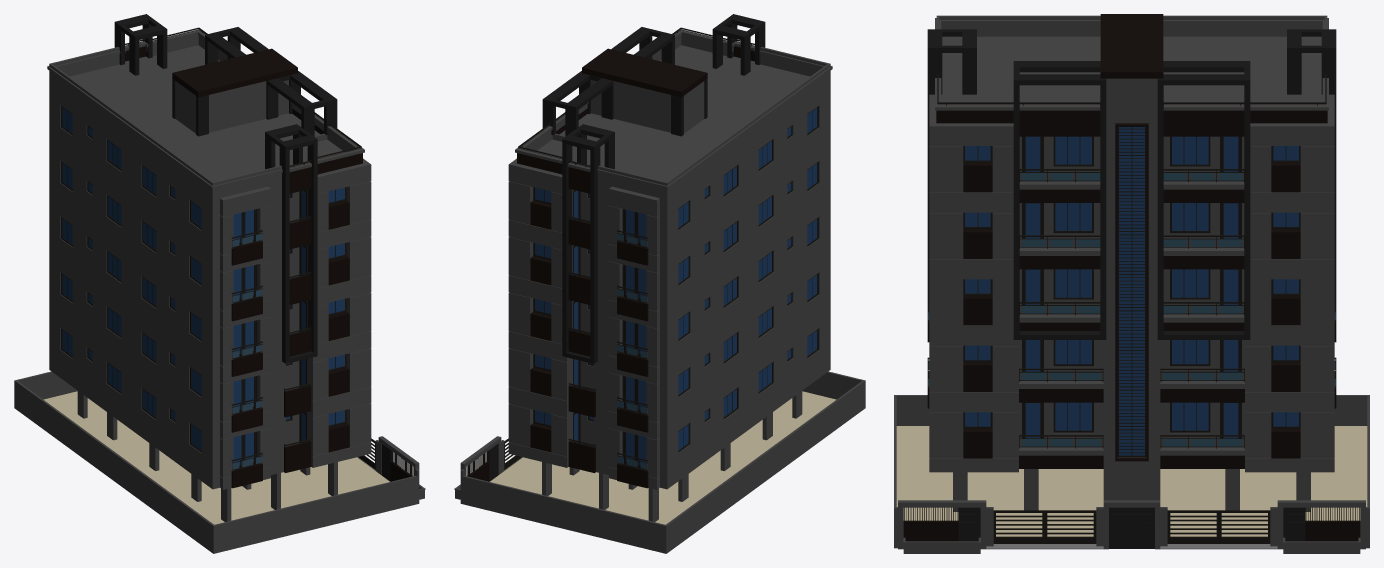
Rendered from indian appartment builiding 1 fbx.FBX.
3 views of the same model, side by side, from view 1: azimuth 30°, elevation 25°; view 2: azimuth 150°, elevation 25°; view 3: azimuth 270°, elevation 25° (orthographic). The views are drawn at different scales.
Parts seen in each view (by area): view 1: white walls, brown walls, wall x1, grey massing, floor, winows 01, doors, Railings, compound wall 001; view 2: white walls, brown walls, wall x1, grey massing, floor, winows 01, doors, Railings, compound wall 002; view 3: white walls, brown walls, floor, grey massing, winows 01, Railings, windows 02, doors, compound wall 001, compound wall 002, compound wall 02, wall x1 (+7 smaller).
Part boxes in pixels (x1=…): white walls: x1=47, y1=29, x2=371, y2=521; brown walls: x1=125, y1=46, x2=362, y2=488; wall x1: x1=14, y1=371, x2=417, y2=553; grey massing: x1=114, y1=14, x2=337, y2=363; floor: x1=43, y1=391, x2=389, y2=524; winows 01: x1=61, y1=106, x2=346, y2=452; doors: x1=233, y1=190, x2=306, y2=469; Railings: x1=125, y1=27, x2=361, y2=470; compound wall 001: x1=378, y1=436, x2=425, y2=499; white walls: x1=508, y1=29, x2=832, y2=521; brown walls: x1=517, y1=46, x2=754, y2=488; wall x1: x1=462, y1=371, x2=865, y2=553; grey massing: x1=542, y1=14, x2=765, y2=363; floor: x1=490, y1=391, x2=836, y2=524; winows 01: x1=533, y1=106, x2=818, y2=452; doors: x1=573, y1=190, x2=646, y2=469; Railings: x1=518, y1=27, x2=754, y2=470; compound wall 002: x1=454, y1=436, x2=501, y2=499; white walls: x1=929, y1=15, x2=1334, y2=511; brown walls: x1=927, y1=14, x2=1336, y2=468; floor: x1=896, y1=426, x2=1367, y2=536; grey massing: x1=927, y1=29, x2=1336, y2=339; winows 01: x1=963, y1=136, x2=1300, y2=432; Railings: x1=927, y1=74, x2=1336, y2=448; windows 02: x1=1117, y1=127, x2=1146, y2=457; doors: x1=1022, y1=136, x2=1241, y2=438; compound wall 001: x1=898, y1=500, x2=986, y2=553; compound wall 002: x1=1277, y1=500, x2=1365, y2=553; compound wall 02: x1=1103, y1=500, x2=1160, y2=549; wall x1: x1=894, y1=395, x2=1369, y2=506.
Size of the model in its own units: 12370 by 20879 by 19756.
